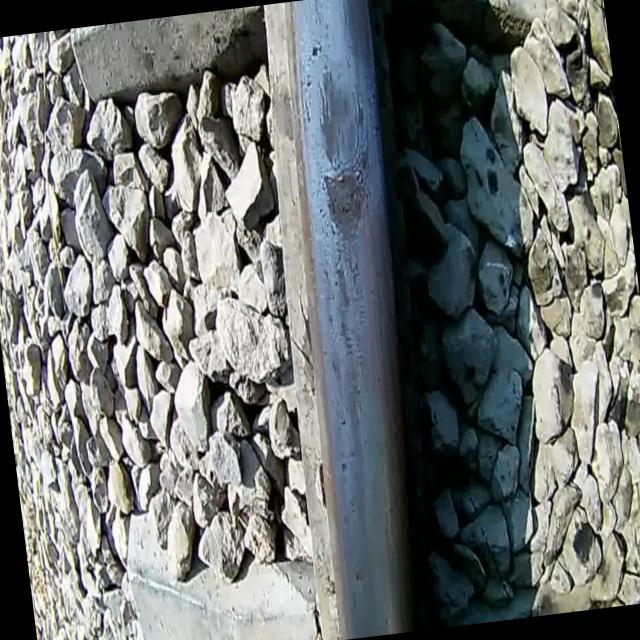Squats: (308, 55, 361, 168), (318, 163, 384, 250)
